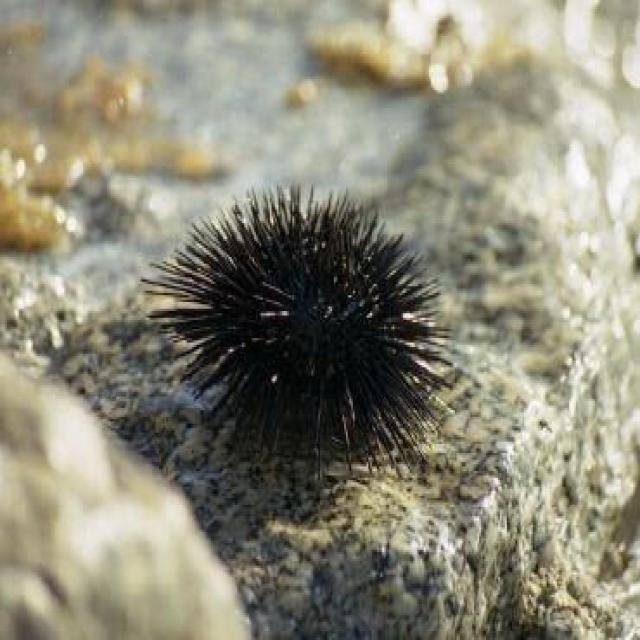Urchin: (152, 192, 450, 476)
